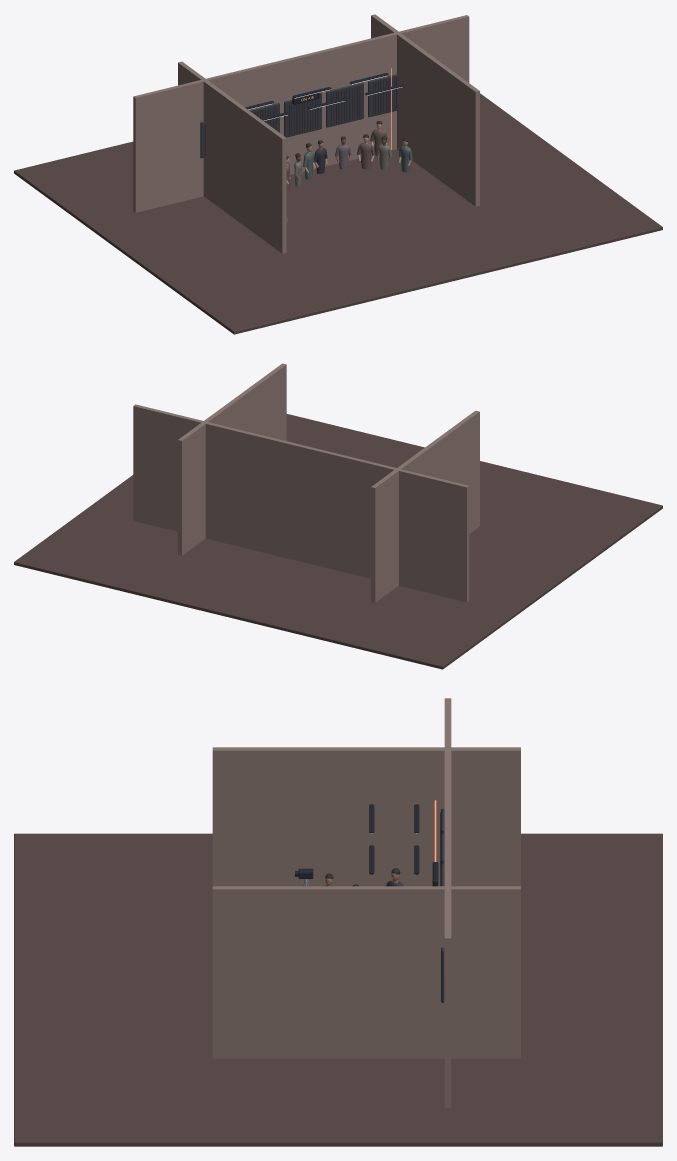
File: VenueBroadcast.fbx
The picture shows the model from 3 angles, top to bottom: view 1: azimuth 30°, elevation 25°; view 2: azimuth 150°, elevation 25°; view 3: azimuth 270°, elevation 25°; orthographic projection. The views are drawn at different scales.
Parts seen in each view (by area): view 1: VenueBroadcast; view 2: VenueBroadcast; view 3: VenueBroadcast.
Part boxes in pixels (left/top/right/bottom): VenueBroadcast: left=14, top=14, right=662, bottom=334; VenueBroadcast: left=14, top=363, right=662, bottom=669; VenueBroadcast: left=14, top=698, right=662, bottom=1146.
Size of the model in its own units: 18 by 16 by 4.73.
